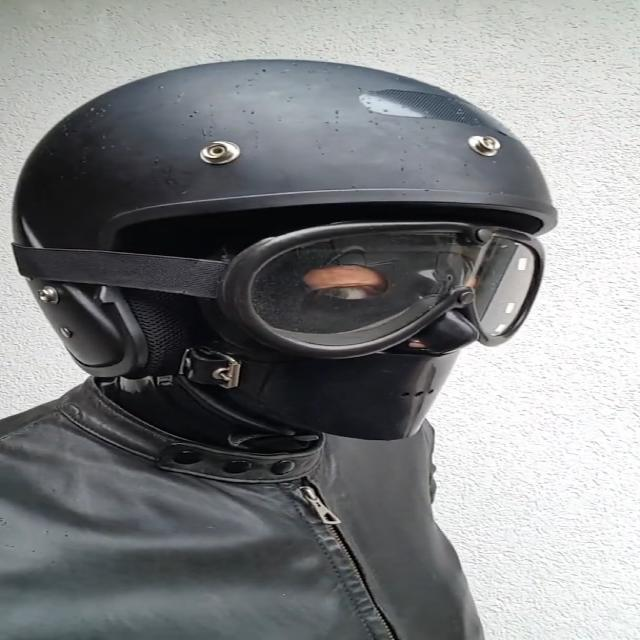Helmet_Wearer: (10, 48, 579, 481)
Jacket_Wearer: (0, 318, 512, 640)
Person: (0, 51, 611, 640)
